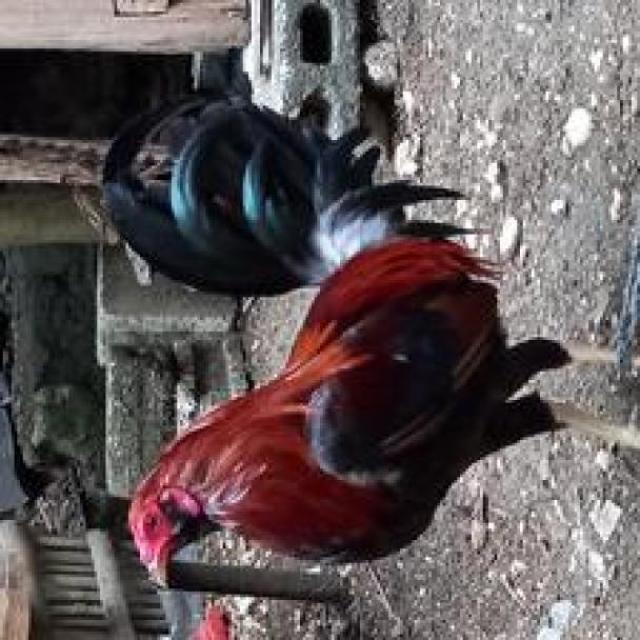Chicken: (66, 100, 640, 594)
